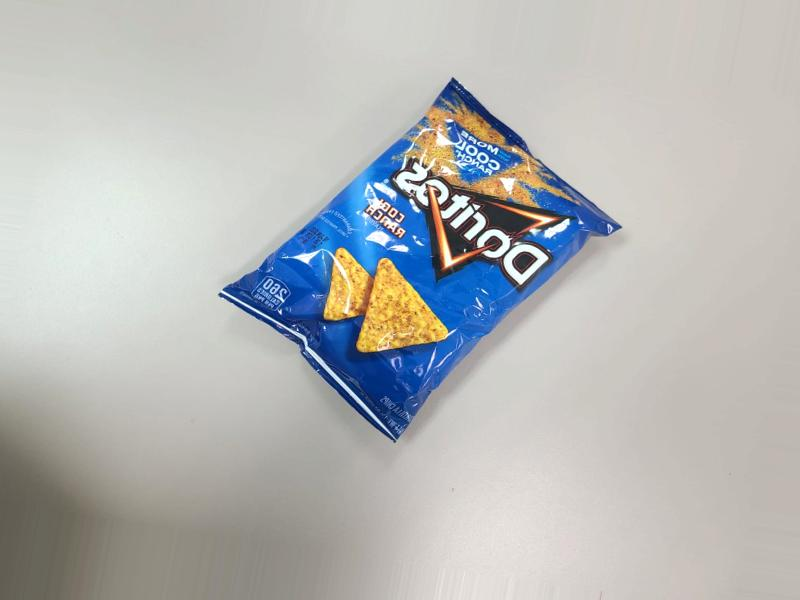doritos: (219, 61, 621, 461)
